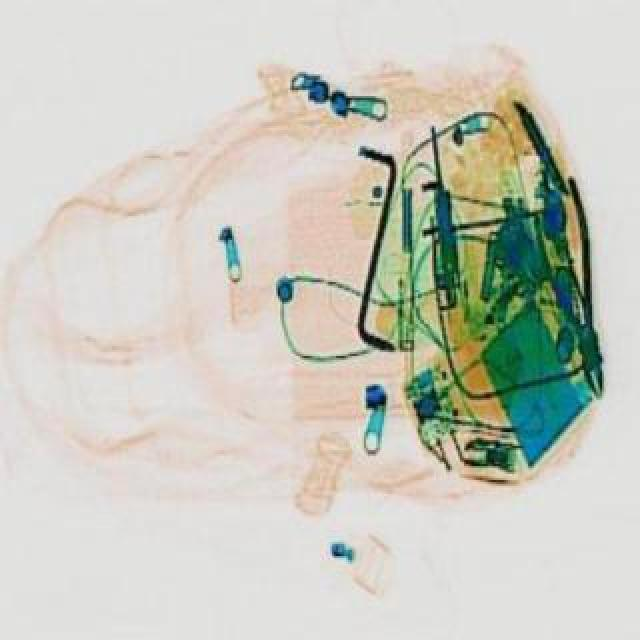wrench: (518, 174, 628, 400)
